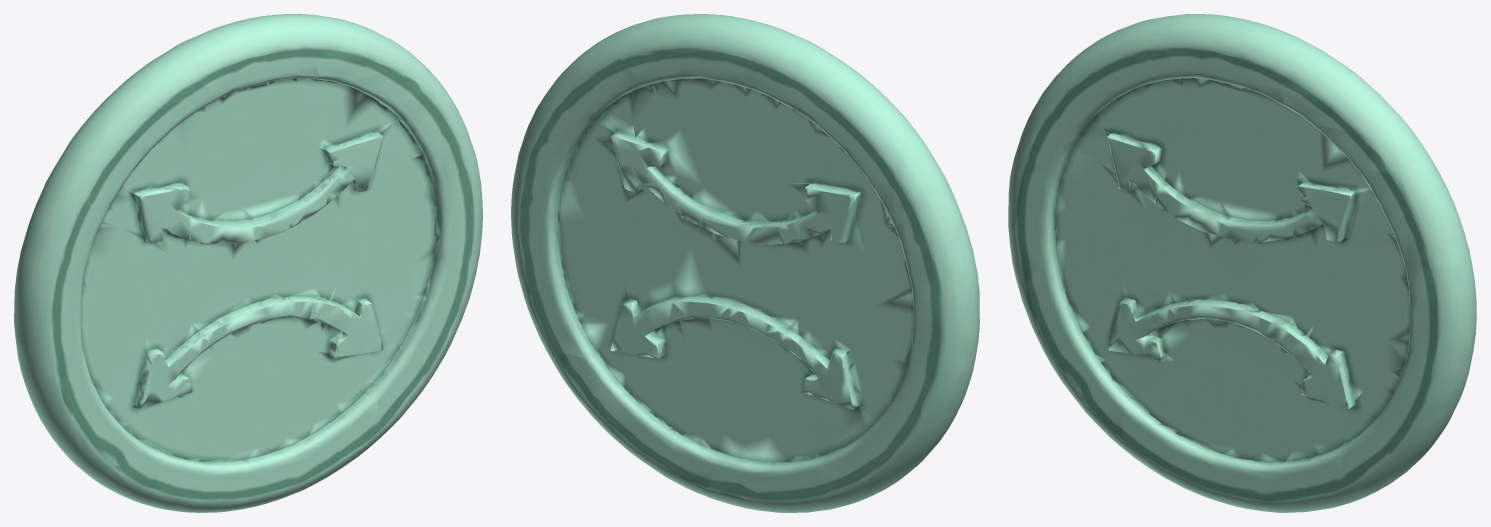
Rendered from gem-switch.glb.
3 renders of one model, left to right at view 1: azimuth 30°, elevation 25°; view 2: azimuth 150°, elevation 25°; view 3: azimuth 330°, elevation 25°, orthographic.
Bounding box in the file's own units: 1.9 × 1.9 × 0.2138.
1 material, 1 textured.
